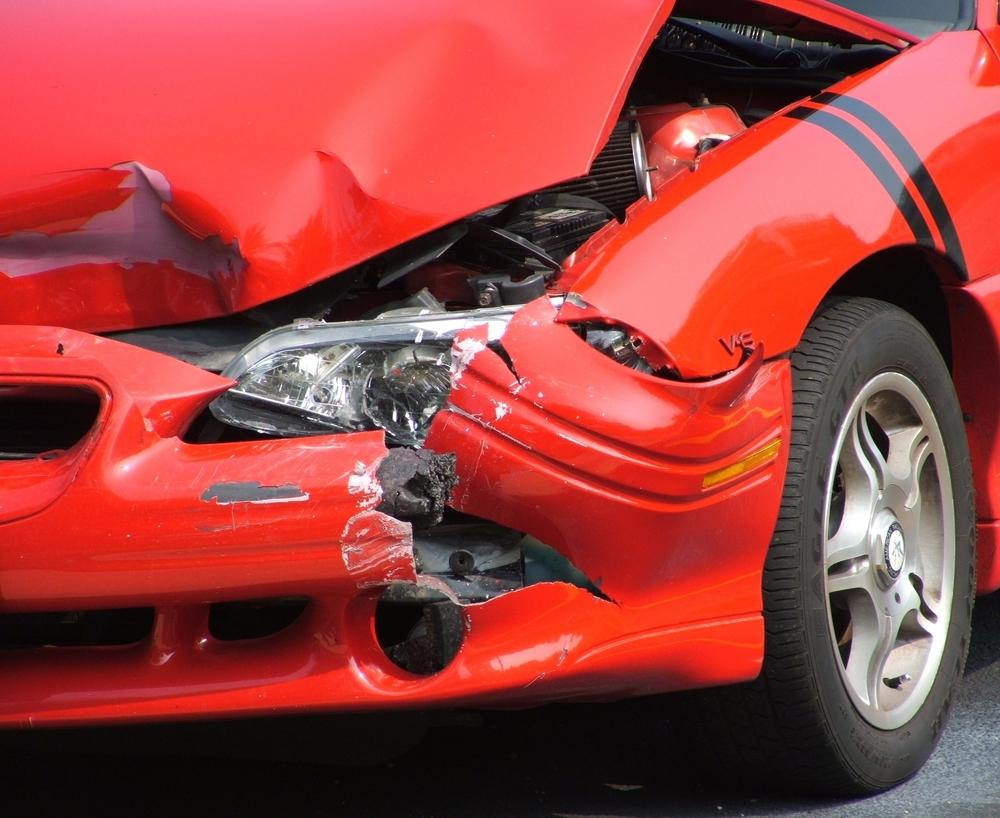crack: (414, 503, 626, 609), (484, 339, 526, 387)
dent: (0, 18, 547, 327)
scratch: (338, 457, 419, 586), (203, 473, 323, 512)
